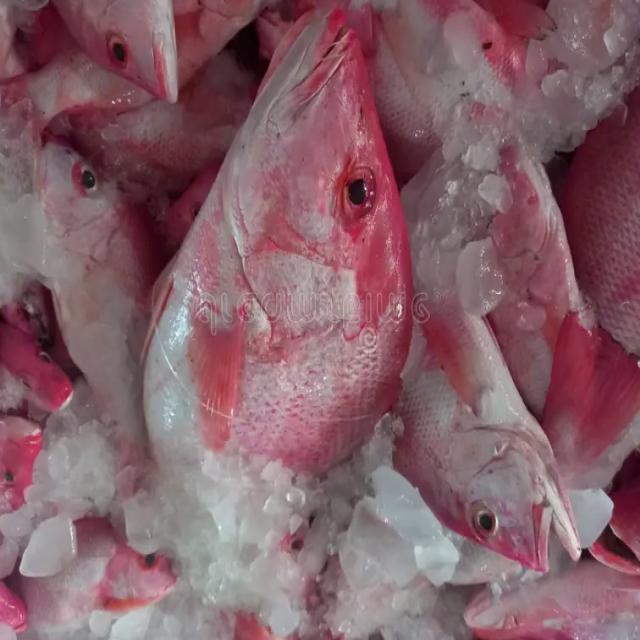Red Snapper: (141, 7, 414, 477)
